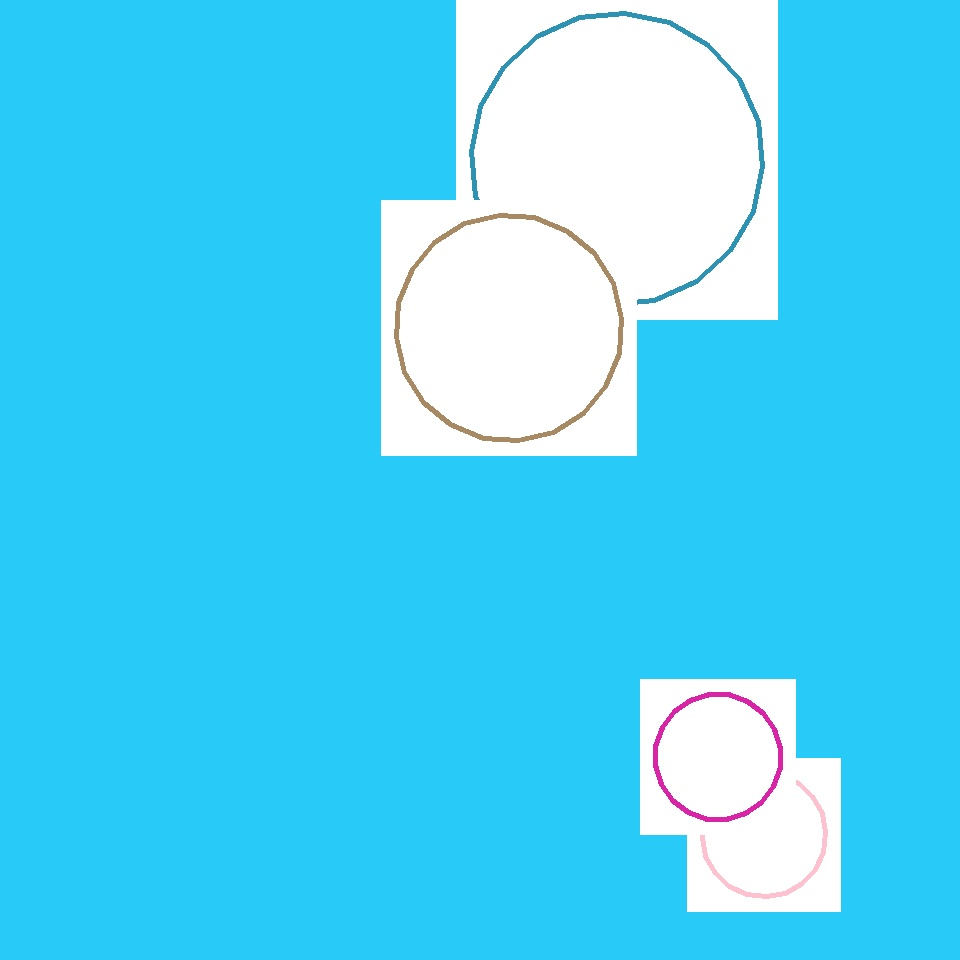square: (556, 76, 848, 370), (155, 600, 334, 780), (268, 732, 356, 822)
triangle: (584, 372, 940, 728), (472, 14, 762, 304), (396, 216, 622, 440), (656, 695, 780, 820), (702, 774, 826, 896), (627, 130, 742, 246)
